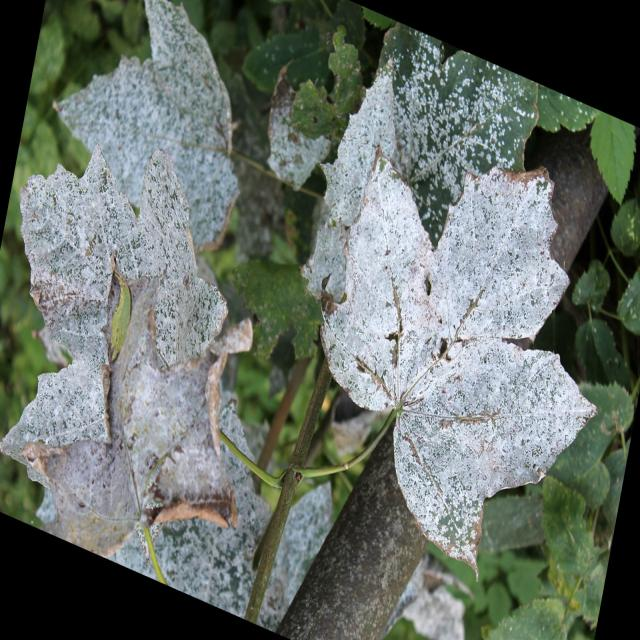Powdery Mildew: (314, 148, 598, 580), (52, 0, 240, 251)
